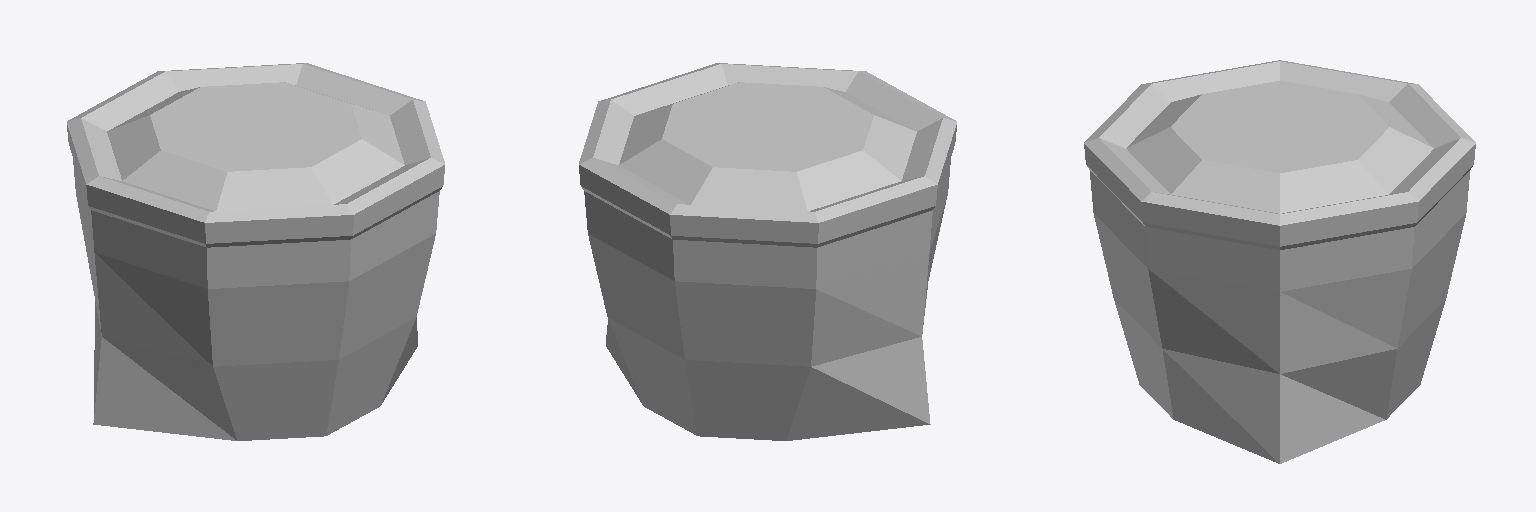
File: barley_sack.obj
The picture shows the model from 3 angles: view 1: azimuth 30°, elevation 25°; view 2: azimuth 150°, elevation 25°; view 3: azimuth 270°, elevation 25°; orthographic projection.
Parts seen in each view (by area): view 1: Open_grain_sack; view 2: Open_grain_sack; view 3: Open_grain_sack.
Boxes of the visible parts, <box> form: Open_grain_sack: <box>67,63,444,440</box>; Open_grain_sack: <box>579,63,956,440</box>; Open_grain_sack: <box>1084,60,1475,463</box>.
Size of the model in its own units: 1.03 by 0.7486 by 1.03.